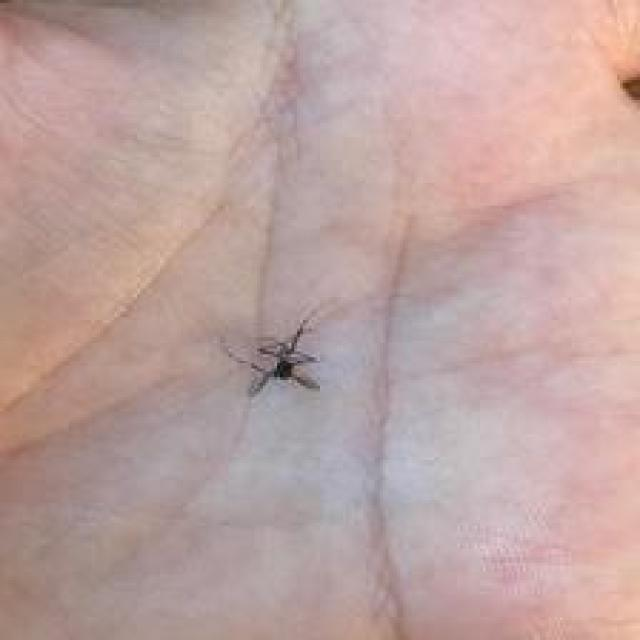Aedes albopictus: (220, 310, 326, 399)
